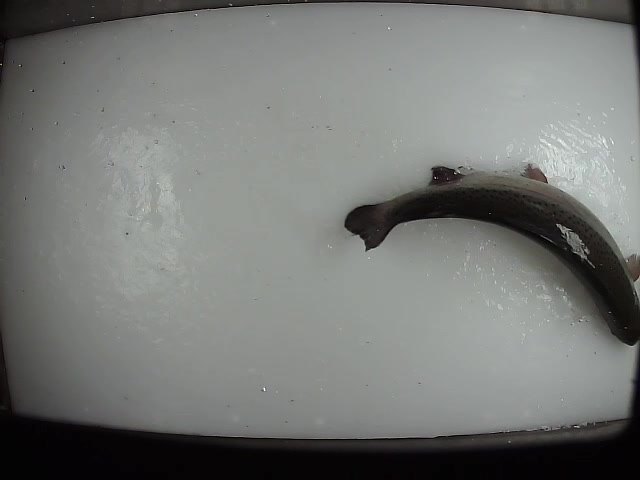Fish: (343, 163, 639, 347)
